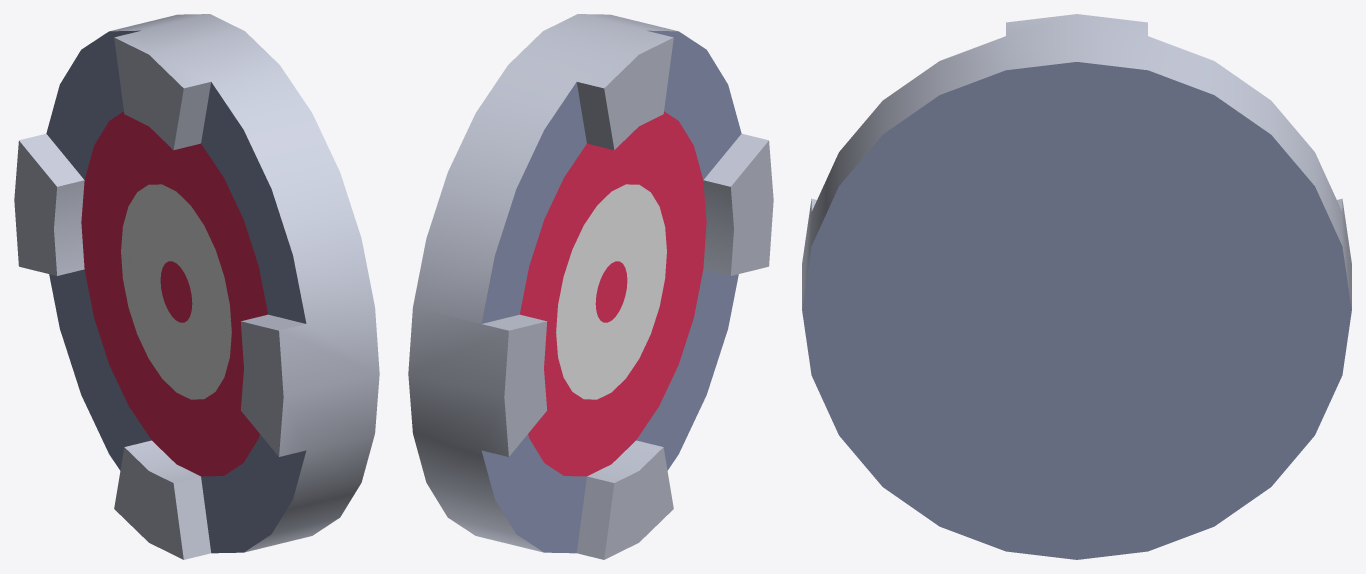
Rendered from targetB.obj.
The picture shows the model from 3 angles, left to right: view 1: azimuth 30°, elevation 25°; view 2: azimuth 150°, elevation 25°; view 3: azimuth 270°, elevation 25°; orthographic projection. The views are drawn at different scales.
Parts seen in each view (by area): view 1: targetB; view 2: targetB; view 3: targetB.
Part boxes in pixels (x1,y1,x2,y2): targetB: (14,14,379,559); targetB: (408,14,773,559); targetB: (802,14,1351,559).
Size of the model in its own units: 0.07 by 0.34 by 0.34.
